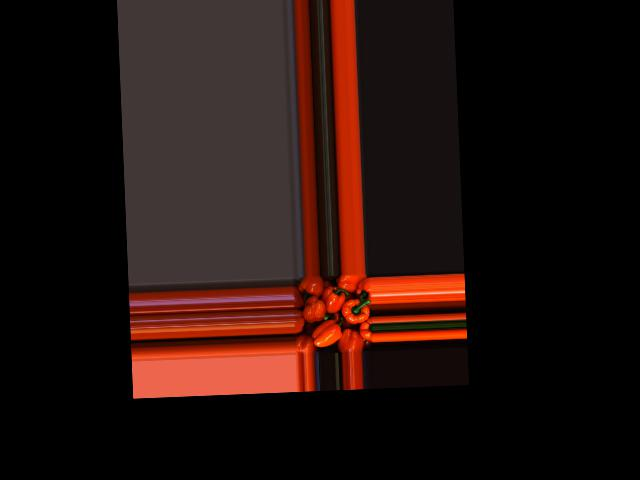bell_pepper: (292, 283, 310, 314)
